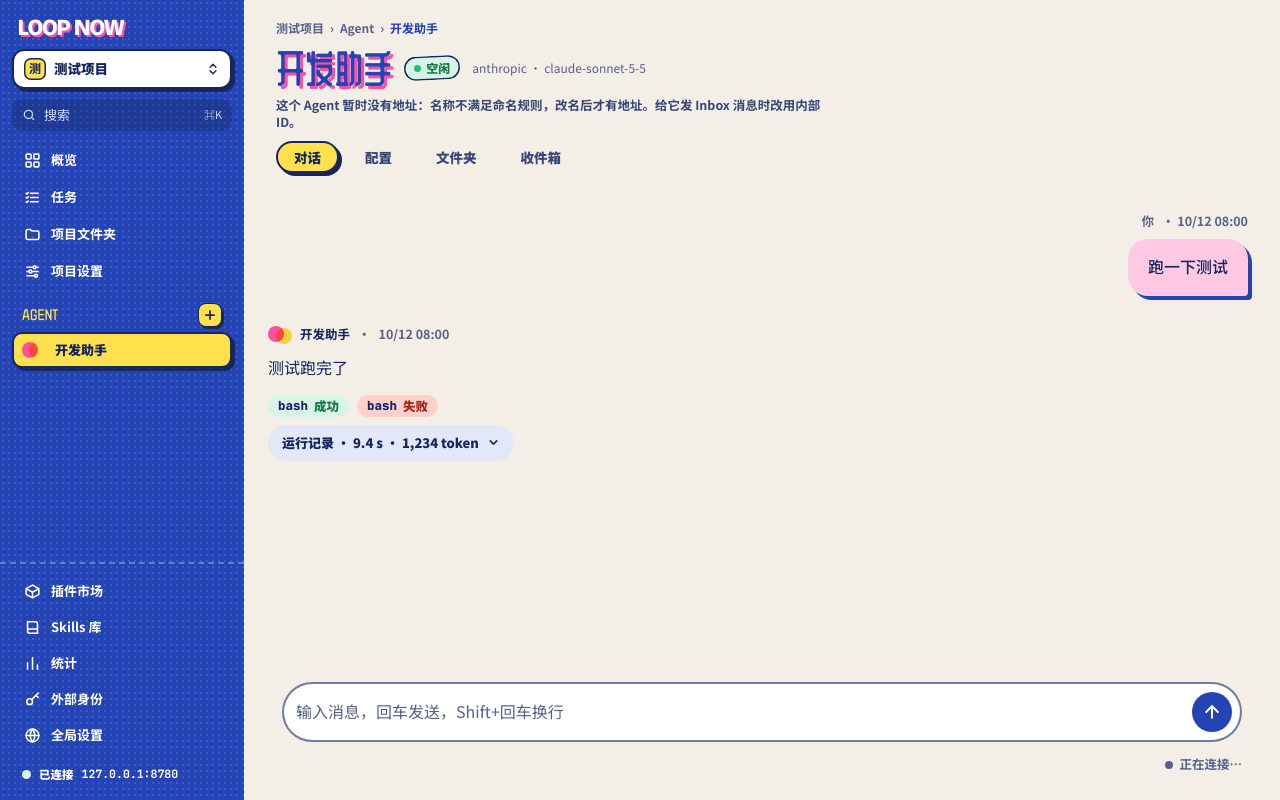
it: 运行记录时间线 › 默认收起，展开后按顺序显示两次 bash 的实际命令、用时和结果，不展示输出，末尾是完成与合计
Expected: the element named "对话" is shown, [268,213,1248,461]
Step 1. Click the button "运行记录 · 9.4 s · 1,234 token" → {"x": 391, "y": 443}, box [268,425,514,461]
(page scrolled)
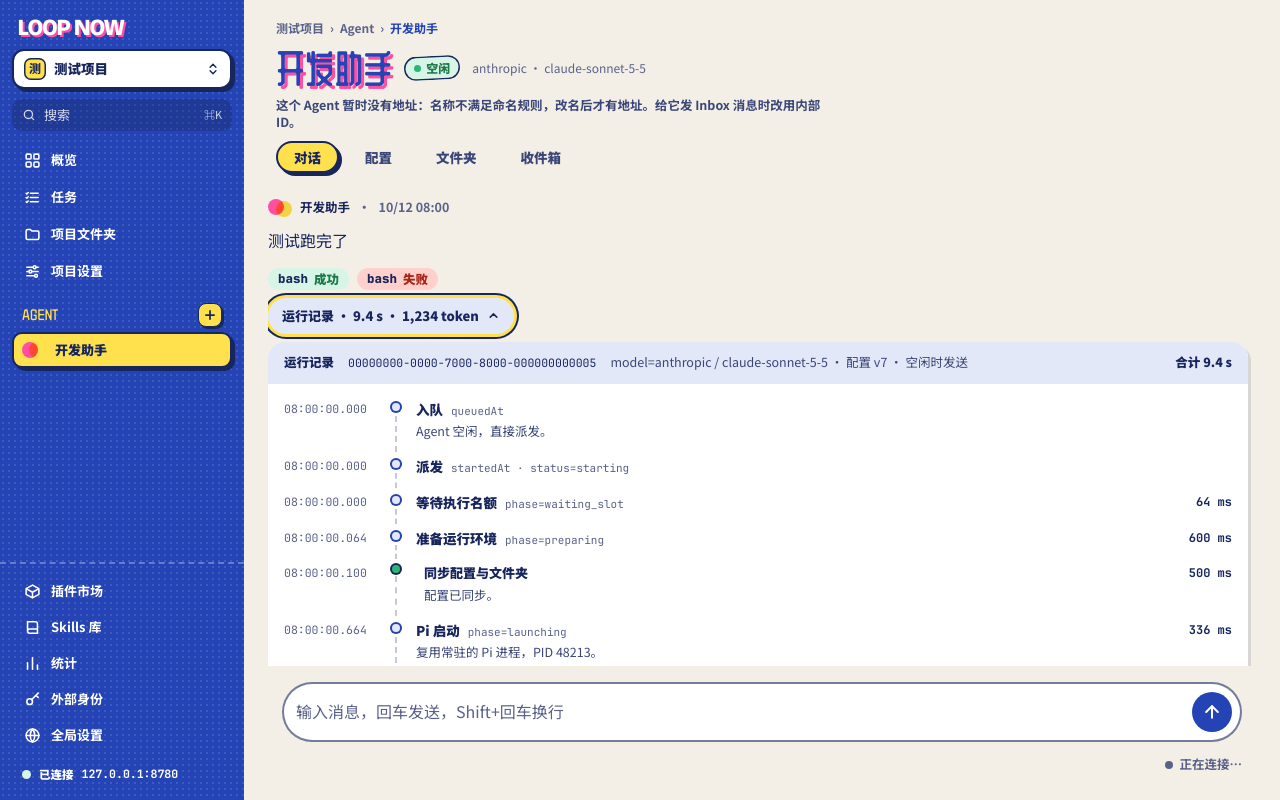
Result: the button "运行记录 · 9.4 s · 1,234 token" is expanded at [268,298,514,334]
Result: the text "运行记录" is shown at [284,352,334,374]
Result: the list item that starts with "Pi 启动" shows "复用常驻的 Pi 进程，PID 48213。" at [416,644,603,660]
